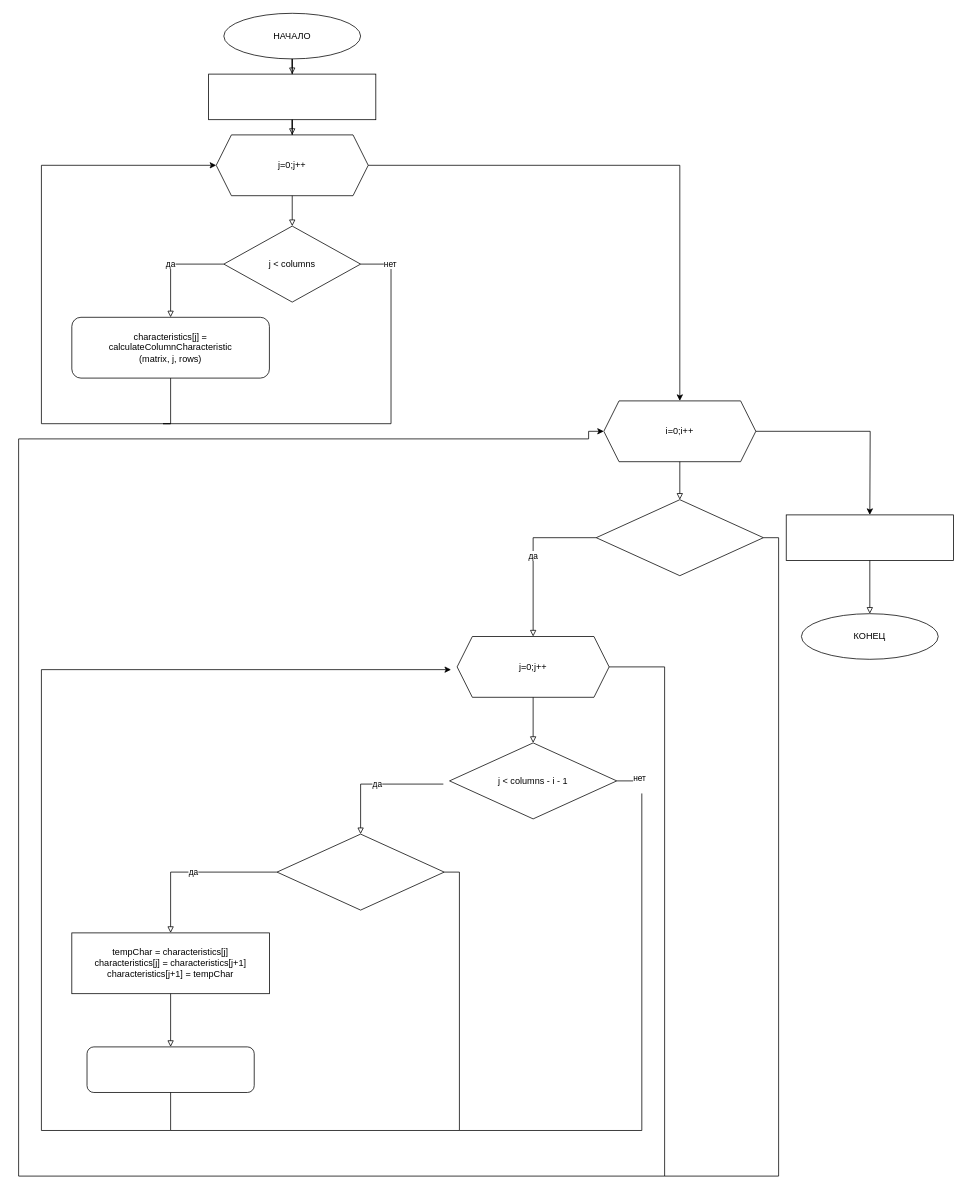
Some shapes in this 967 by 1195 pixel diagram are drawn without their labels. The centre of each missing label's shape, as x and y in pixels:
"characteristics = new int[cols]" belongs at (292,96).
"characteristics[j] > characteristics[j+1]" belongs at (360,871).
"delete[] characteristics" belongs at (869,537).
"i < columns - 1" belongs at (679,537).
"swapColumns(matrix, j, j+1, rows)" belongs at (170,1069).
